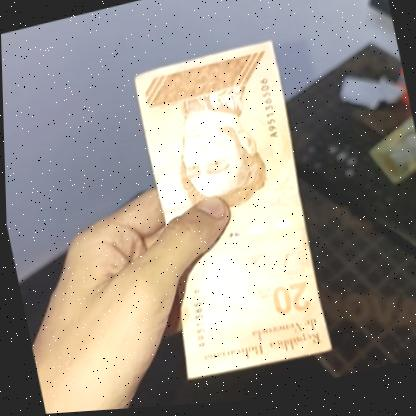twenty-front-vef: (123, 38, 334, 390)
